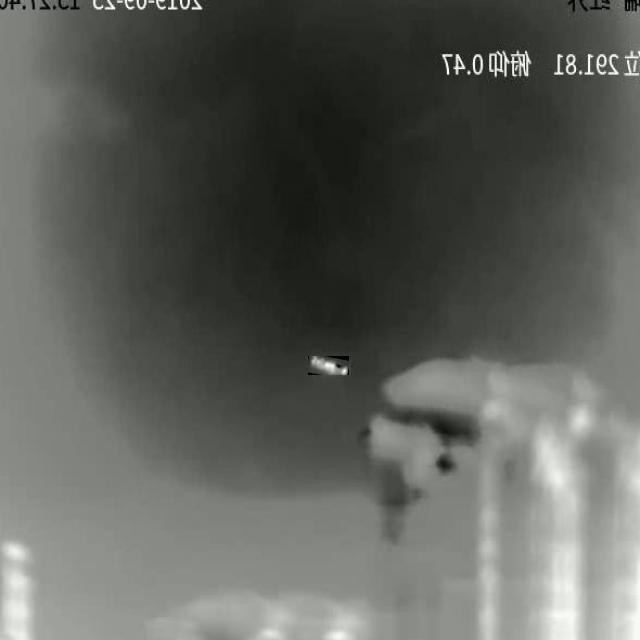drone: (311, 356, 348, 375)
